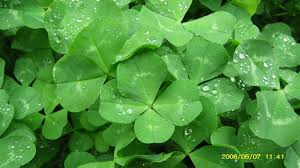4-clover: (99, 48, 203, 142)
